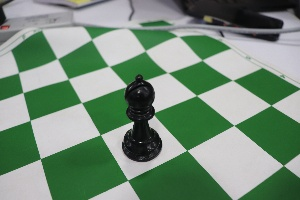black_bishop: (115, 64, 172, 165)
